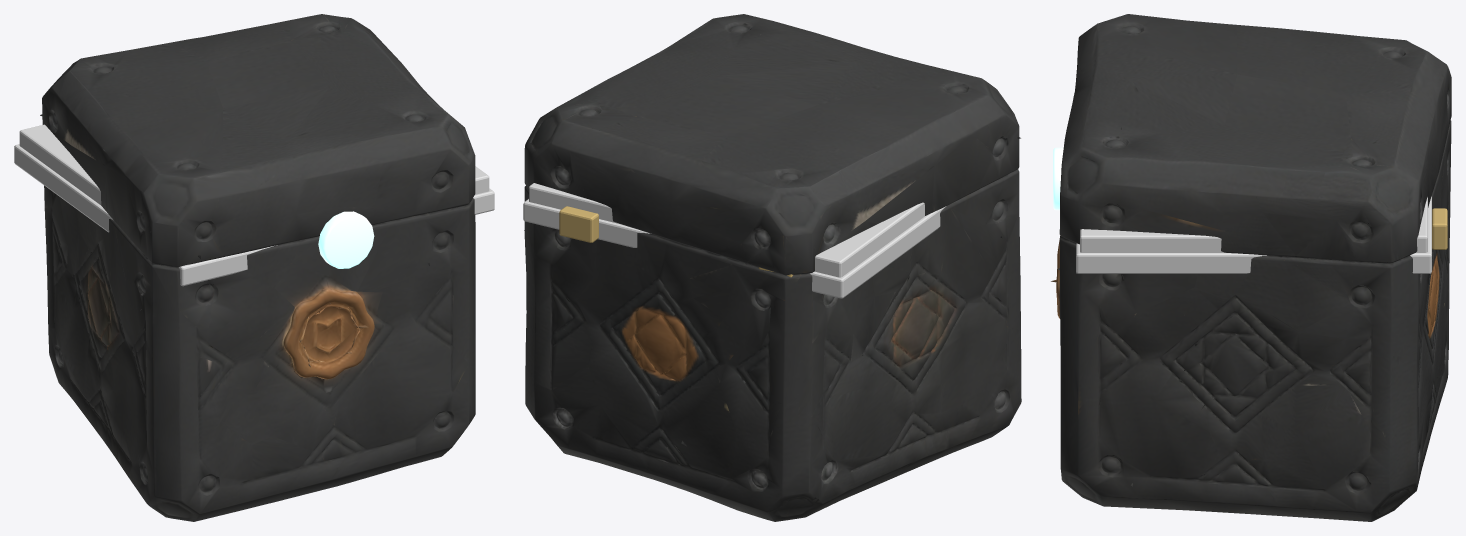
The model's file is SM_Box_HoloSciFi.fbx.
3 views of the same model, side by side, from view 1: azimuth 30°, elevation 25°; view 2: azimuth 150°, elevation 25°; view 3: azimuth 270°, elevation 25° (orthographic). The views are drawn at different scales.
Parts seen in each view (by area): view 1: BoxBody, LidPivot, VelvetRim, SealPart; view 2: BoxBody, LidPivot, VelvetRim, HingePlate_1.0; view 3: BoxBody, LidPivot, VelvetRim, HingePlate_1.0, SealPart.
Boxes of the visible parts, bbox=[...] form: BoxBody: bbox=[44, 185, 475, 521]; LidPivot: bbox=[19, 14, 489, 271]; VelvetRim: bbox=[14, 144, 494, 286]; SealPart: bbox=[318, 211, 374, 268]; BoxBody: bbox=[524, 173, 1021, 521]; LidPivot: bbox=[524, 14, 1020, 280]; VelvetRim: bbox=[523, 199, 946, 298]; HingePlate_1.0: bbox=[559, 206, 598, 242]; BoxBody: bbox=[1051, 124, 1451, 521]; LidPivot: bbox=[1059, 14, 1451, 268]; VelvetRim: bbox=[1076, 196, 1431, 273]; HingePlate_1.0: bbox=[1432, 208, 1447, 249]; SealPart: bbox=[1053, 147, 1063, 210].
Size of the model in its own units: 0.3827 by 0.3579 by 0.3591.
